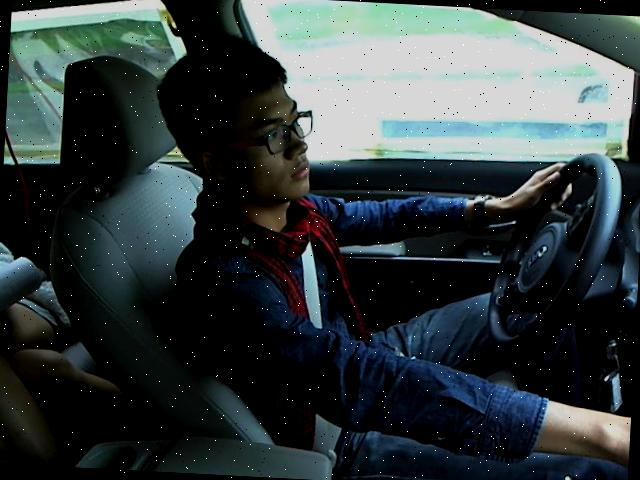c3 - Operating the Radio: (127, 24, 639, 469)
